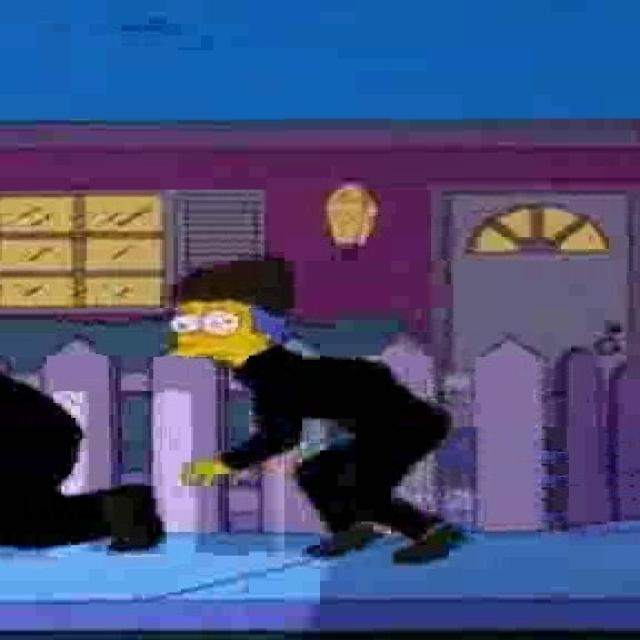Marge Simpson: (160, 254, 298, 368)
